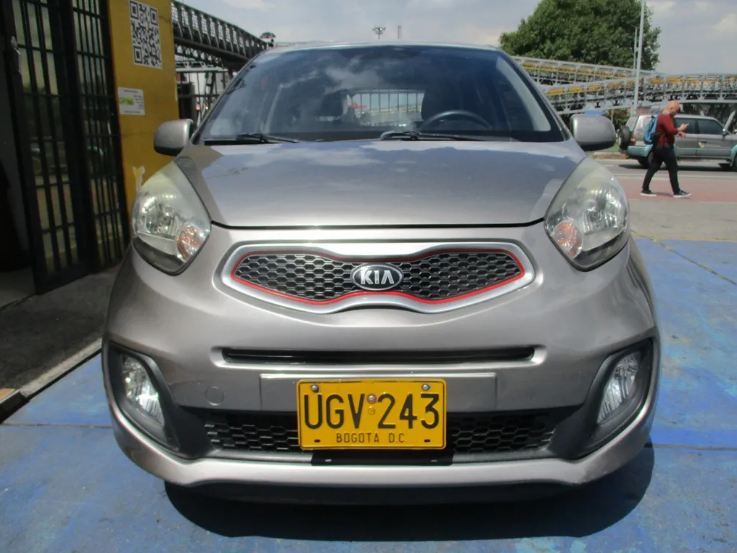placa: (297, 379, 446, 450)
